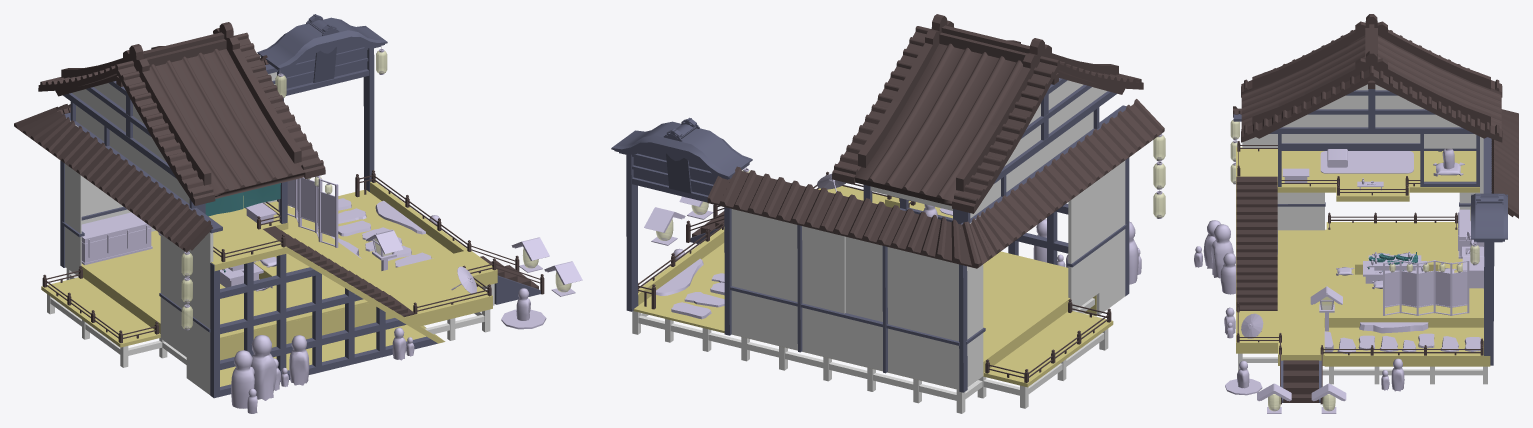
Rendered from Shotengai_MappleRoom_MainStructure_Combined.fbx.
3 renders of one model, left to right at view 1: azimuth 30°, elevation 25°; view 2: azimuth 150°, elevation 25°; view 3: azimuth 270°, elevation 25°, orthographic. The views are drawn at different scales.
Visible parts, largest first — view 1: Shotengai_Maple_room_RE1; view 2: Shotengai_Maple_room_RE1; view 3: Shotengai_Maple_room_RE1.
Part boxes in pixels (x1=…): Shotengai_Maple_room_RE1: x1=14, y1=14, x2=582, y2=413; Shotengai_Maple_room_RE1: x1=611, y1=14, x2=1165, y2=413; Shotengai_Maple_room_RE1: x1=1194, y1=14, x2=1518, y2=413.
Size of the model in its own units: 15.39 by 10.29 by 12.33.
